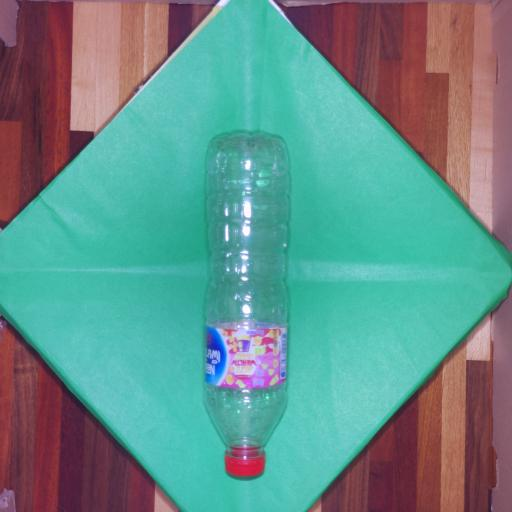bottle: (206, 133, 288, 476)
